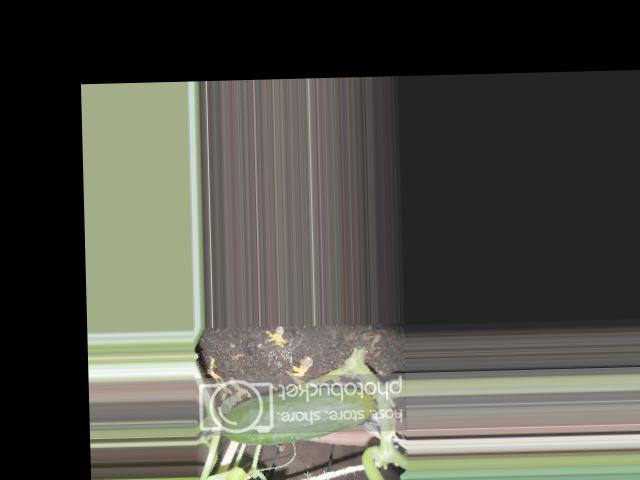cucumber: (221, 385, 375, 445)
